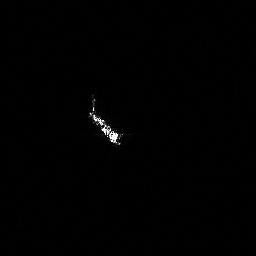ship: (90, 110, 120, 145)
